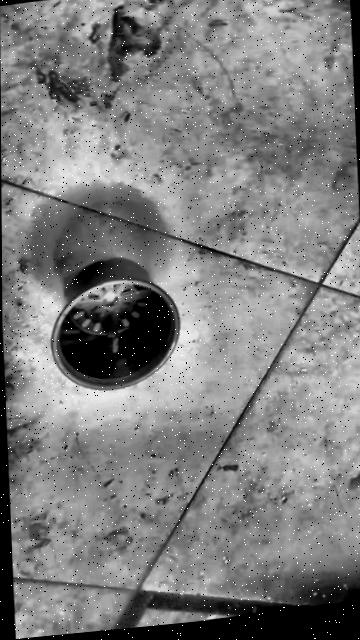pot: (48, 251, 182, 397)
